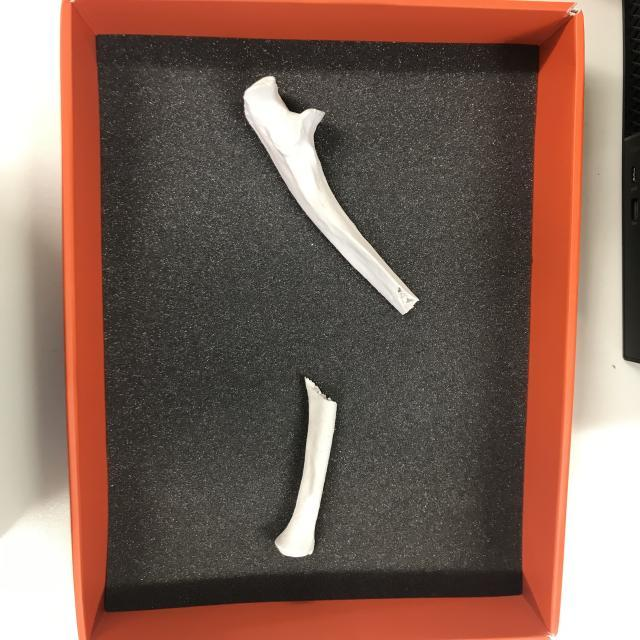bone: (241, 75, 419, 312), (264, 374, 343, 560)
